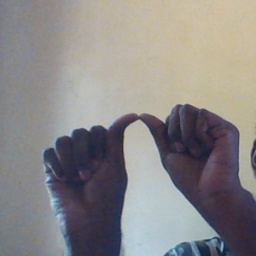A: (27, 101, 248, 225)
